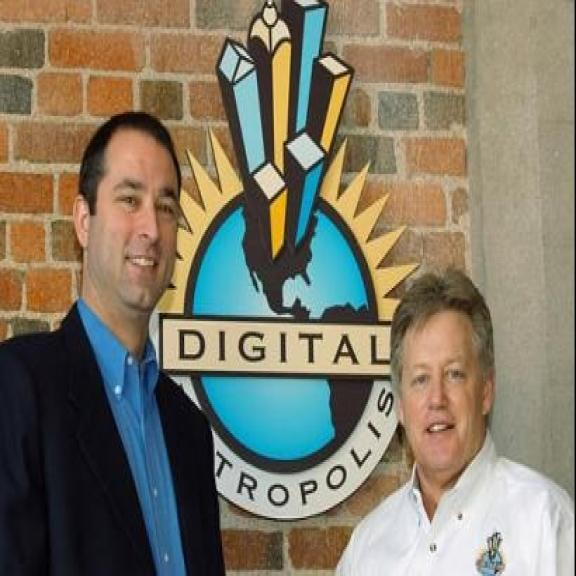face: (73, 140, 180, 319), (393, 306, 493, 484)
